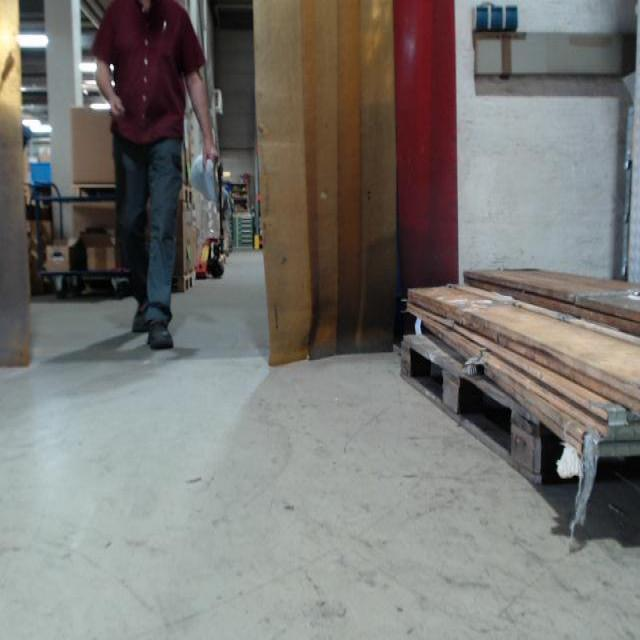pallet: (398, 334, 559, 485), (69, 183, 115, 196), (172, 272, 196, 295), (180, 180, 195, 202)
pallet_truck: (199, 159, 228, 281)
